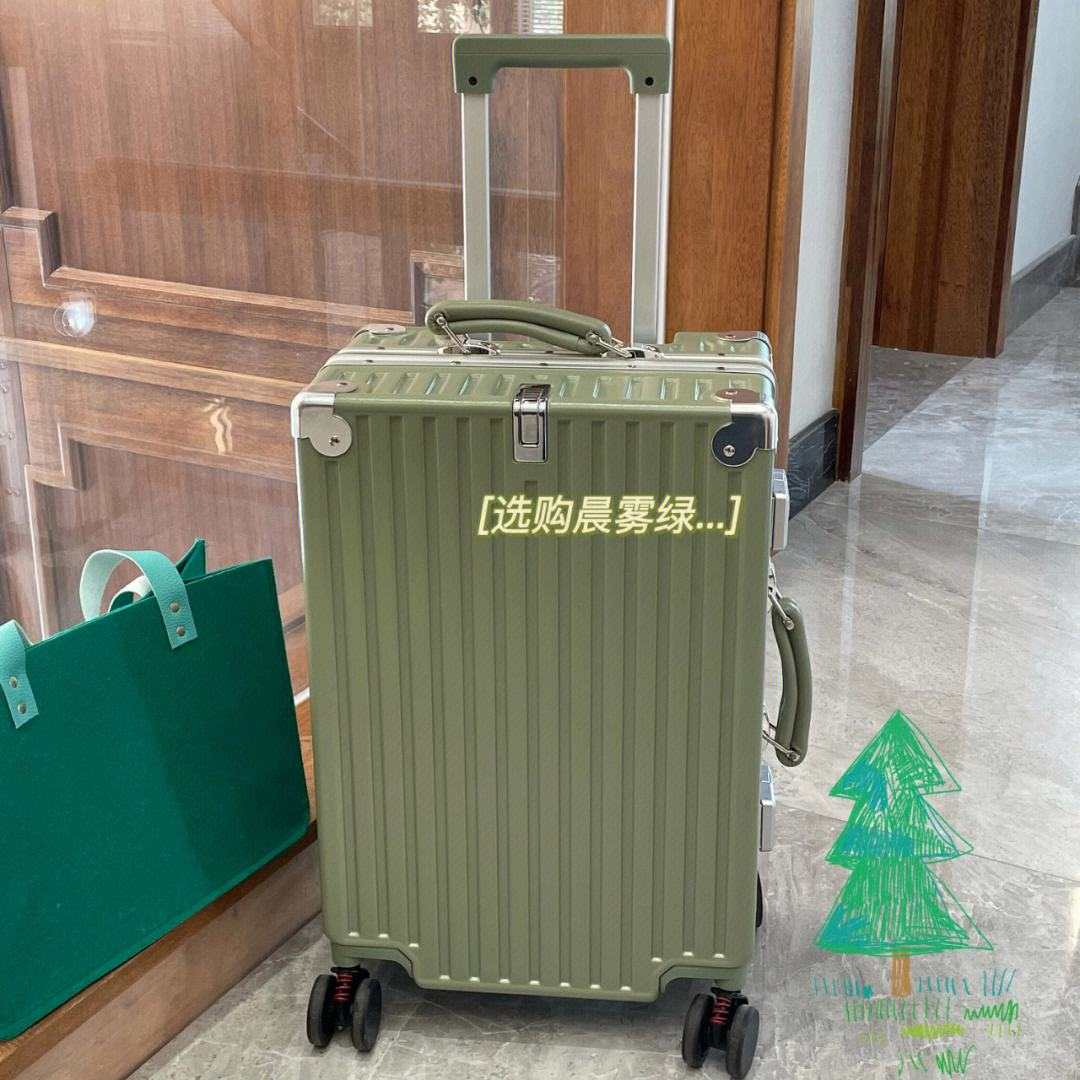box: (287, 321, 775, 1002)
handle: (425, 300, 659, 358), (763, 559, 813, 768)
wheel: (681, 992, 759, 1080), (305, 974, 382, 1052)
